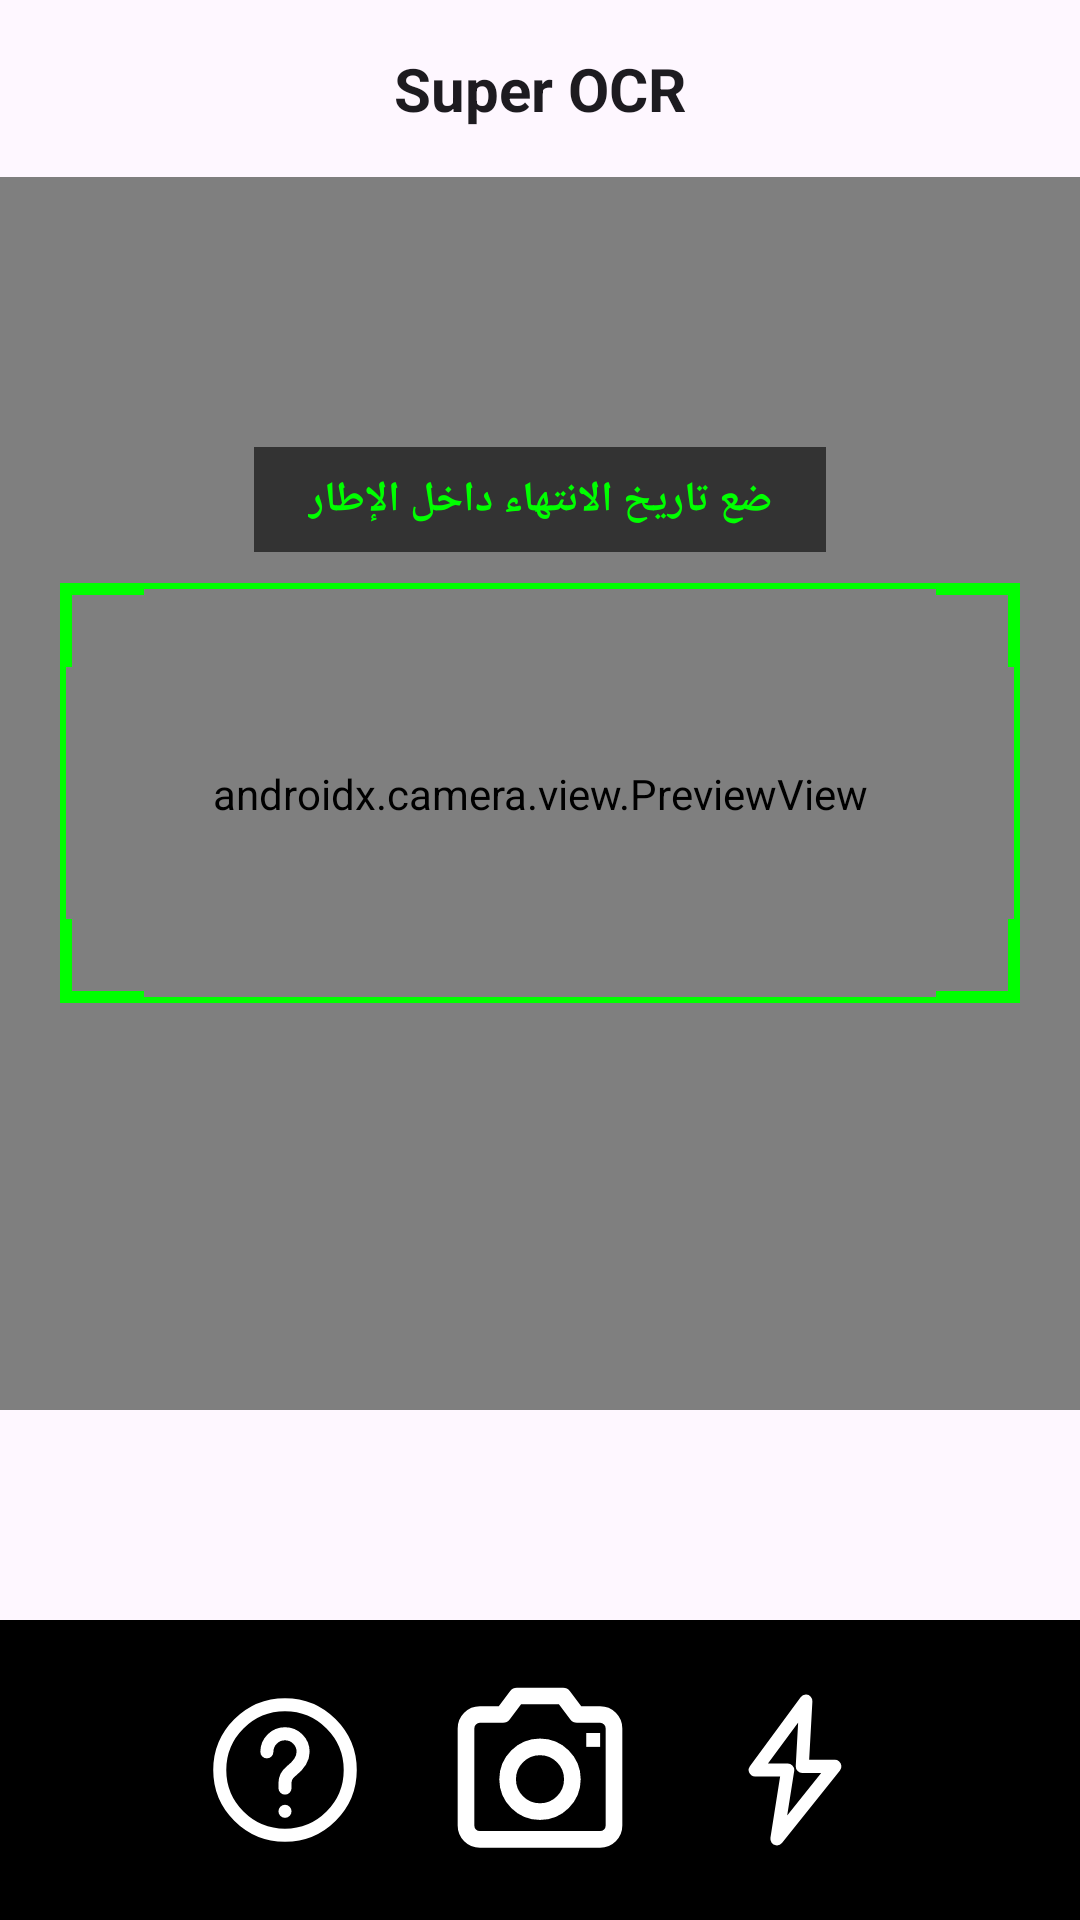

Icons on this 1080*1920 Android screen, each with the point to tap as point (x, y):
التقاط صورة: point (540, 1767)
تشغيل الفلاش: point (795, 1770)
مساعدة: point (285, 1770)
